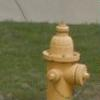Hydrant: (36, 11, 95, 100)
